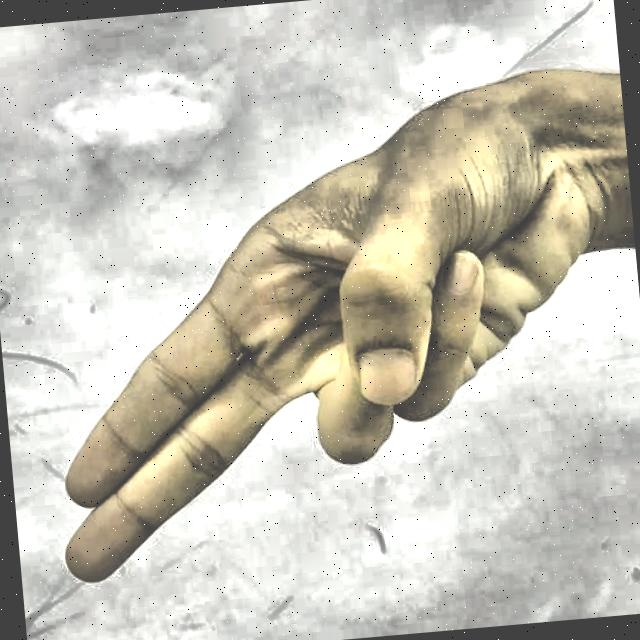Ha: (18, 54, 638, 622)
